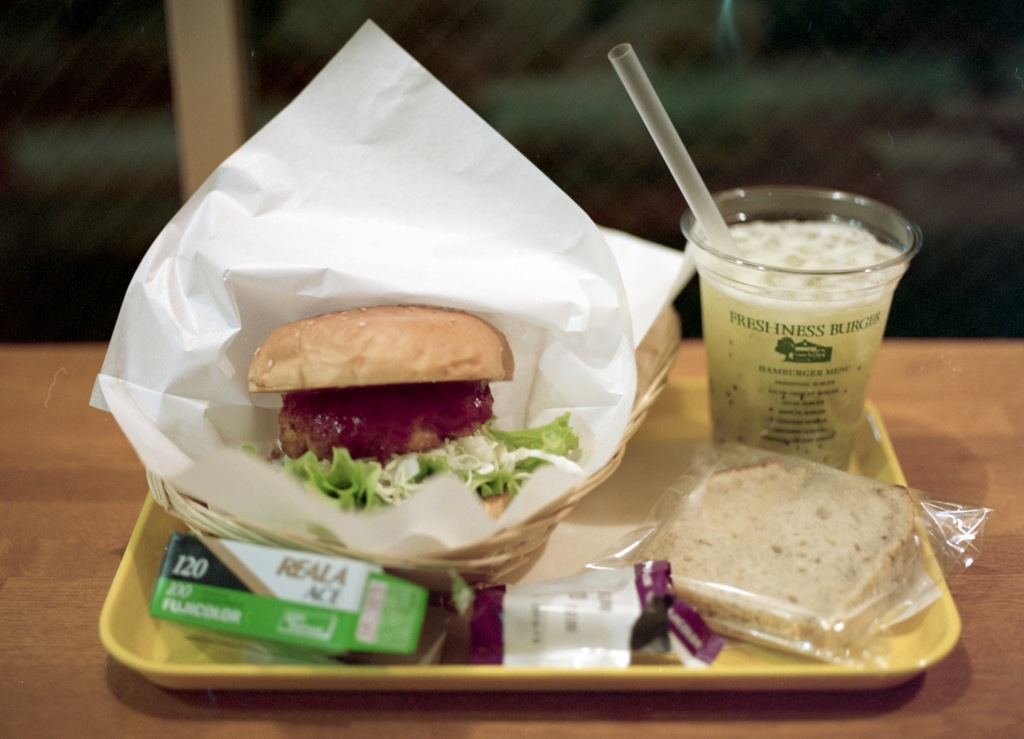Hamburger: (245, 305, 577, 524)
